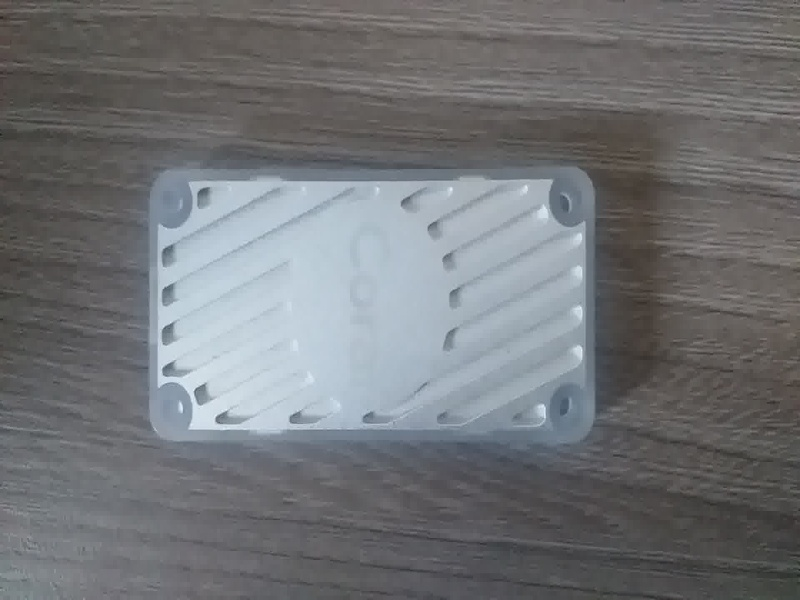coral: (134, 153, 599, 450)
